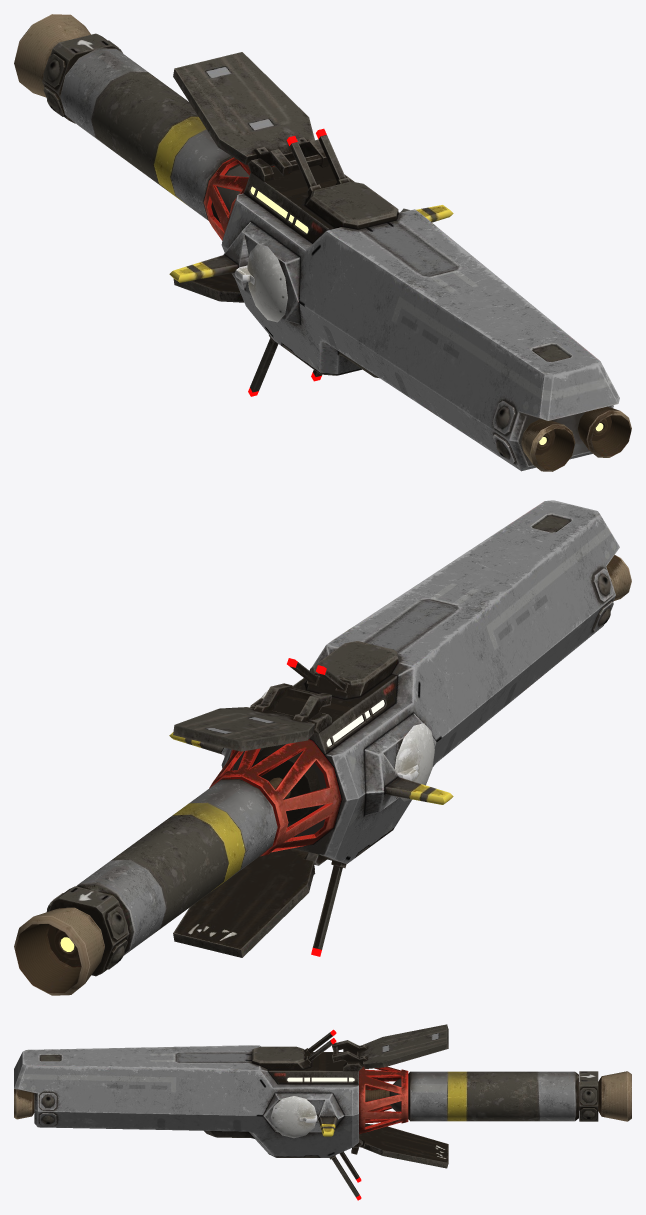
The model's file is rylek-brig.glb.
3 renders of one model, top to bottom at view 1: azimuth 30°, elevation 25°; view 2: azimuth 150°, elevation 25°; view 3: azimuth 270°, elevation 25°, orthographic. The views are drawn at different scales.
Visible parts, largest first — view 1: Pirate; view 2: Pirate; view 3: Pirate (×2).
Boxes of the visible parts, box(x1,y1,x2,y2) form: Pirate: box(14, 14, 631, 471); Pirate: box(14, 500, 631, 995); Pirate (×2): box(14, 1024, 631, 1196).
Size of the model in its own units: 598 by 564 by 2012.
4 materials, 4 textured.
